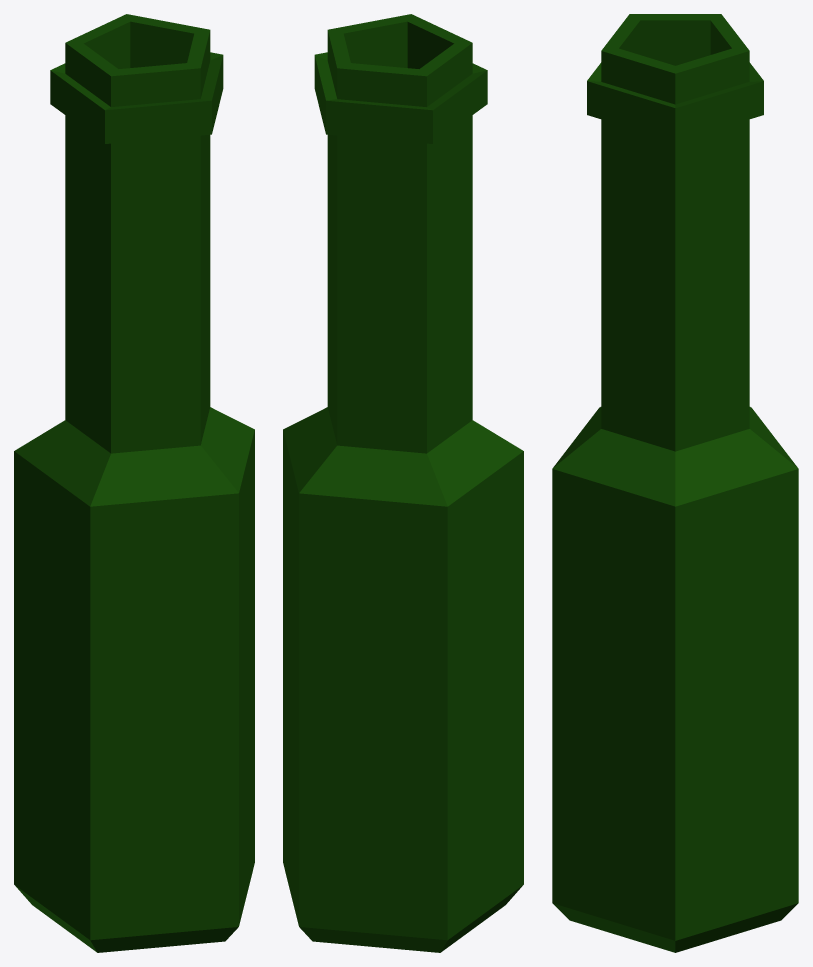
Rendered from bottle.fbx.
3 renders of one model, left to right at view 1: azimuth 30°, elevation 25°; view 2: azimuth 150°, elevation 25°; view 3: azimuth 270°, elevation 25°, orthographic.
Visible parts, largest first — view 1: Cylinder001; view 2: Cylinder001; view 3: Cylinder001.
Part boxes in pixels (bbox=[...]): Cylinder001: bbox=[14, 14, 254, 952]; Cylinder001: bbox=[283, 14, 523, 952]; Cylinder001: bbox=[552, 14, 798, 952].
Size of the model in its own units: 16.83 by 68.52 by 17.69.
